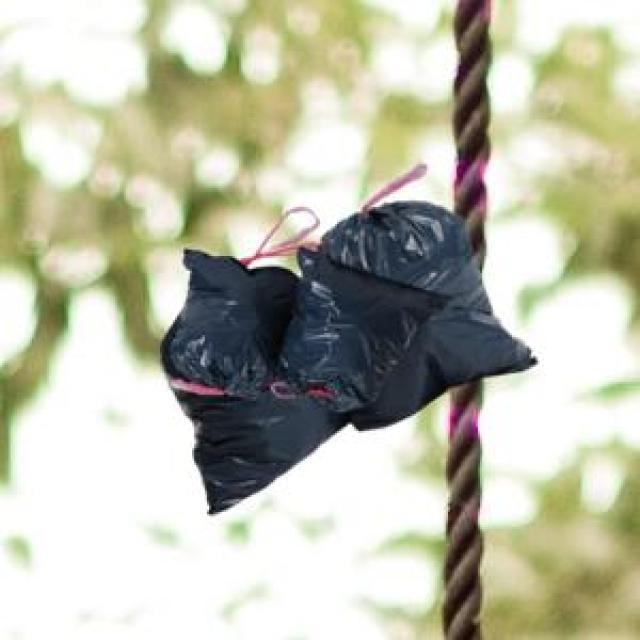Trashbag: (278, 241, 456, 415), (162, 247, 299, 405)
